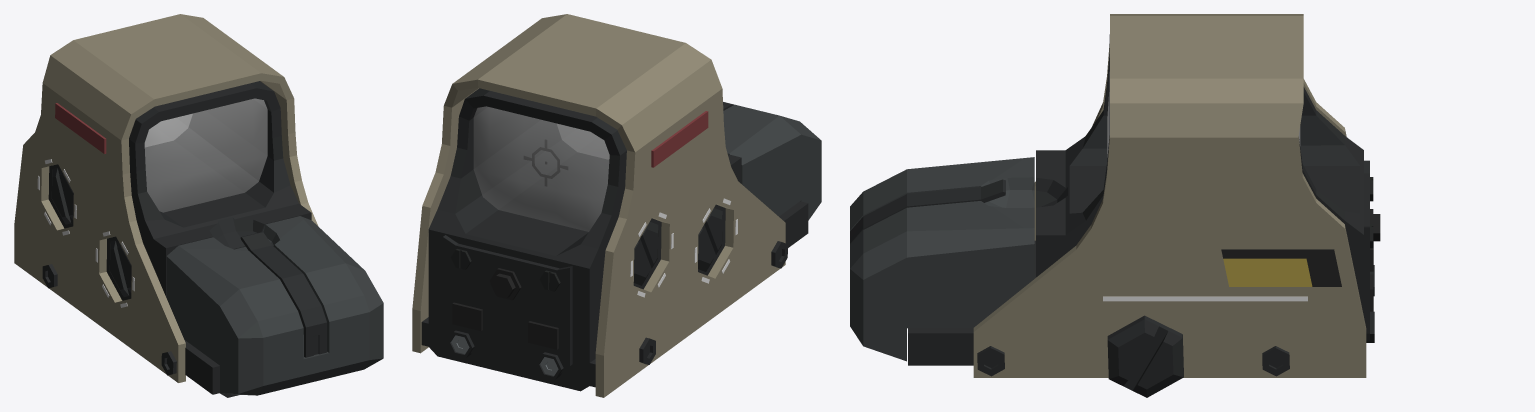
The model's file is red_dot_d.fbx.
3 renders of one model, left to right at view 1: azimuth 30°, elevation 25°; view 2: azimuth 150°, elevation 25°; view 3: azimuth 270°, elevation 25°, orthographic. The views are drawn at different scales.
Parts seen in each view (by area): view 1: red_dot_d, glass.006; view 2: red_dot_d, glass.006; view 3: red_dot_d.
Boxes of the visible parts, left/top/right/bottom form: red_dot_d: left=14, top=14, right=383, bottom=397; glass.006: left=144, top=98, right=267, bottom=212; red_dot_d: left=412, top=14, right=821, bottom=397; glass.006: left=473, top=106, right=609, bottom=231; red_dot_d: left=850, top=14, right=1380, bottom=397.
Size of the model in its own units: 3.53 by 4.46 by 9.16.
Materials: 2 (1 with a texture image).
